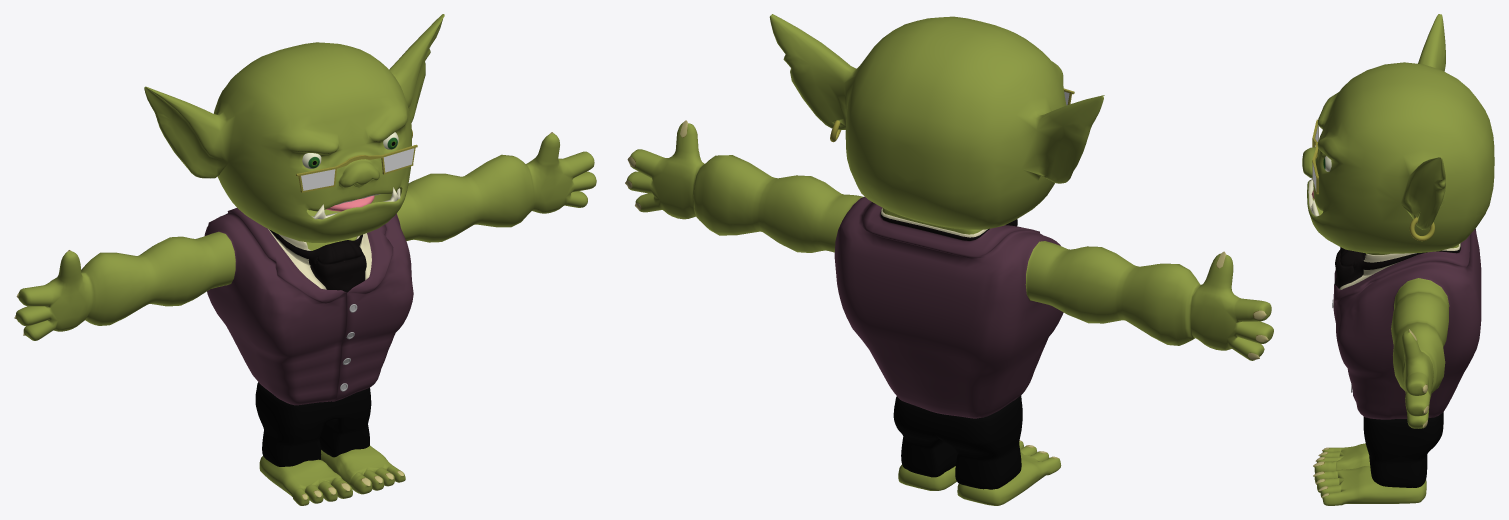
The model's file is Bjorn-NoRig13.fbx.
The picture shows the model from 3 angles, left to right: view 1: azimuth 30°, elevation 25°; view 2: azimuth 150°, elevation 25°; view 3: azimuth 270°, elevation 25°; orthographic projection. The views are drawn at different scales.
Parts seen in each view (by area): view 1: BD_Torso_Arms_Hands, BD_Head, BD_Head.001, BD_Legs, BD_Foot_Right, BD_Foot_Left, Glasses; view 2: BD_Torso_Arms_Hands, BD_Head.001, BD_Head, BD_Legs, BD_Foot_Right, BD_Foot_Left; view 3: BD_Torso_Arms_Hands, BD_Head.001, BD_Head, BD_Legs, BD_Foot_Left, BD_Foot_Right, Glasses.
Part boxes in pixels (left/top/right/bottom): BD_Torso_Arms_Hands: left=14, top=132, right=596, bottom=405; BD_Head: left=144, top=14, right=444, bottom=242; BD_Head.001: left=146, top=14, right=444, bottom=223; BD_Legs: left=255, top=382, right=371, bottom=466; BD_Foot_Right: left=259, top=456, right=352, bottom=505; BD_Foot_Left: left=320, top=445, right=405, bottom=494; Glasses: left=296, top=144, right=417, bottom=192; BD_Torso_Arms_Hands: left=625, top=120, right=1273, bottom=418; BD_Head.001: left=770, top=14, right=1104, bottom=225; BD_Head: left=770, top=15, right=1104, bottom=229; BD_Legs: left=893, top=395, right=1022, bottom=489; BD_Foot_Right: left=957, top=440, right=1061, bottom=505; BD_Foot_Left: left=898, top=464, right=956, bottom=490; BD_Torso_Arms_Hands: left=1333, top=229, right=1481, bottom=428; BD_Head.001: left=1302, top=14, right=1494, bottom=239; BD_Head: left=1302, top=17, right=1482, bottom=253; BD_Legs: left=1363, top=412, right=1443, bottom=487; BD_Foot_Left: left=1313, top=466, right=1426, bottom=505; BD_Foot_Right: left=1313, top=443, right=1370, bottom=473; Glasses: left=1312, top=119, right=1318, bottom=194.
Bounding box in the file's own units: 351 × 239 × 103.
